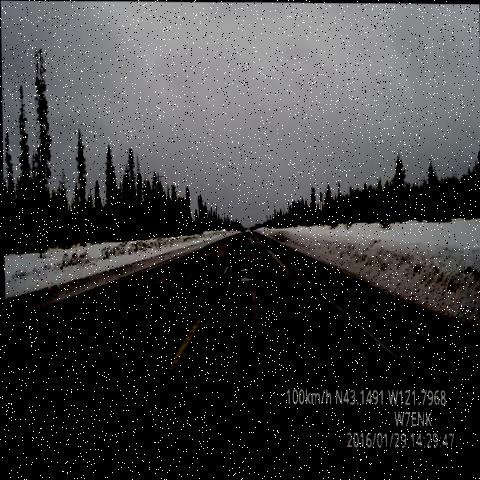pothole: (83, 285, 157, 344), (167, 253, 201, 285), (234, 261, 261, 292), (237, 235, 261, 260)
